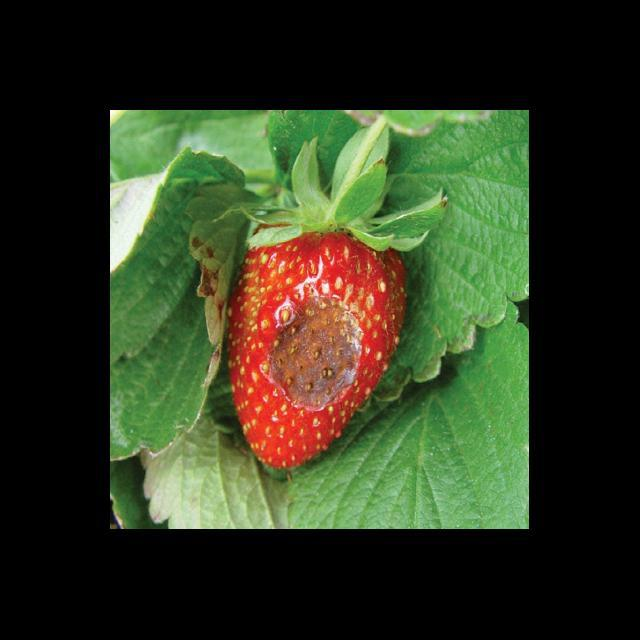Anthracnose Fruit Rot: (261, 291, 368, 413)
